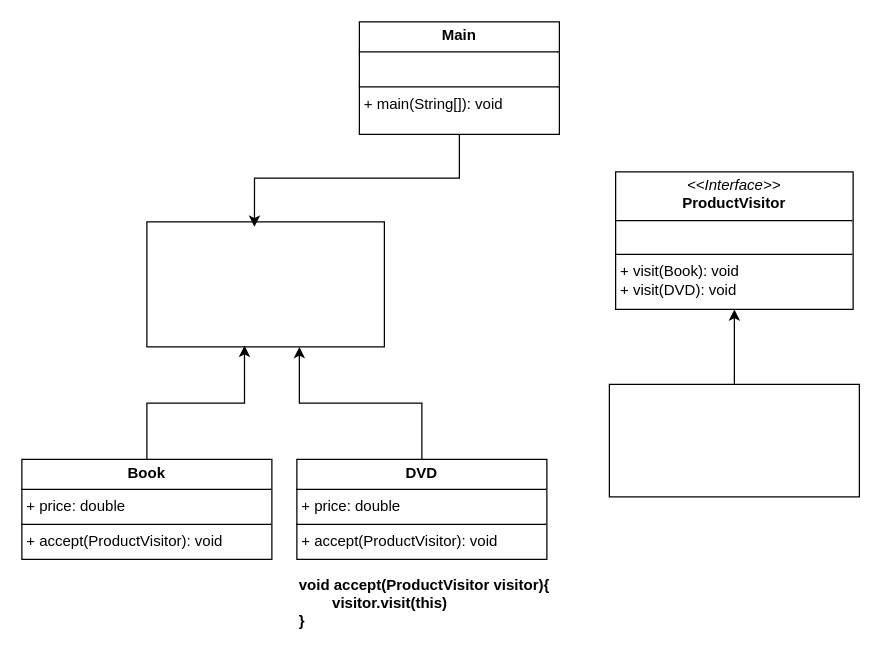
The diagram is 881 pixels wide and 656 high, and some of its shapes have lost their labels. Each missing label, with the centre of its shape:
<<Interface>> Product + accept(ProductVisitor): void: the point at 265,284
TaxCalculator + price: double + visit(Book): void + visit(DVD): void: the point at 733,440
